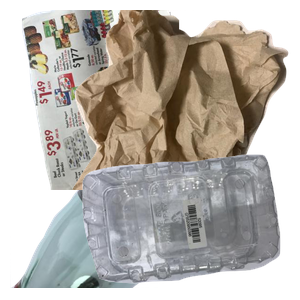glass: (10, 120, 224, 300)
paper: (19, 10, 223, 190)
plastic: (80, 152, 300, 300)
trash: (70, 10, 300, 190)
